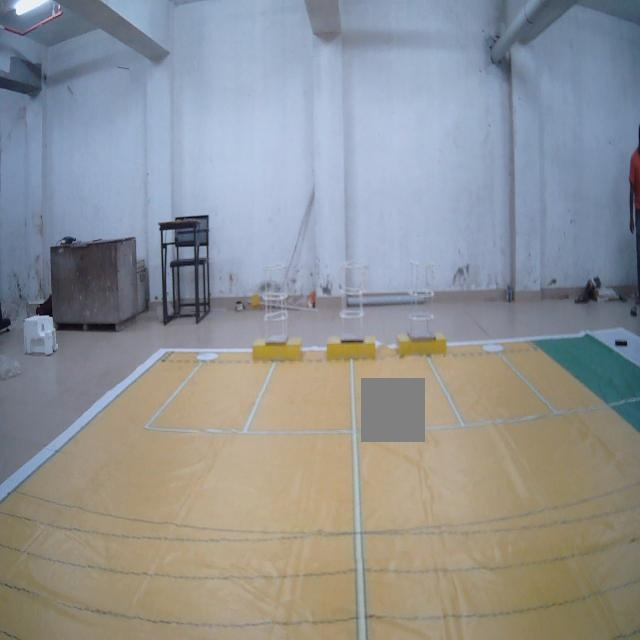silo: (338, 256, 367, 346), (407, 260, 438, 343), (262, 261, 291, 347)
